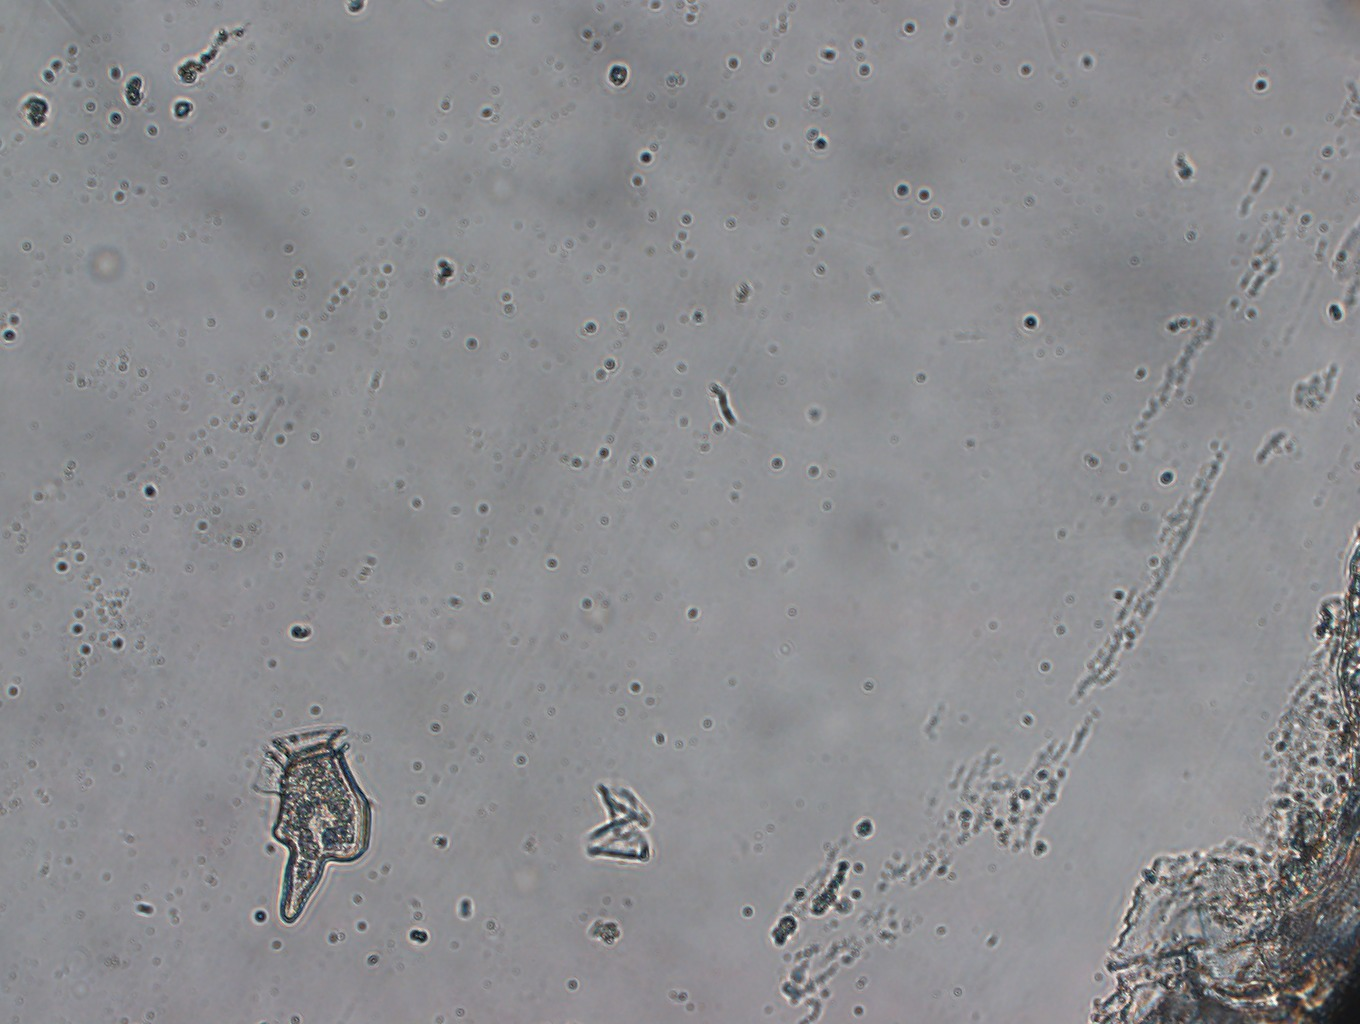dinophysis caudata: (249, 728, 372, 926)
